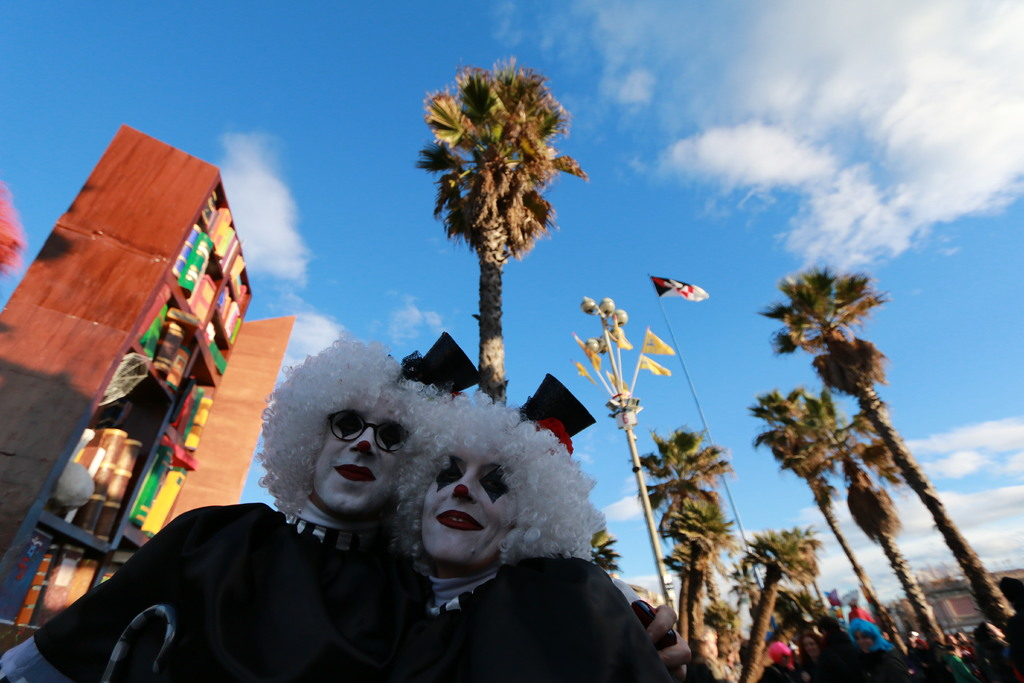Tree: (760, 262, 1022, 619), (408, 39, 589, 422), (747, 383, 960, 682), (627, 426, 732, 679), (744, 531, 824, 682)
